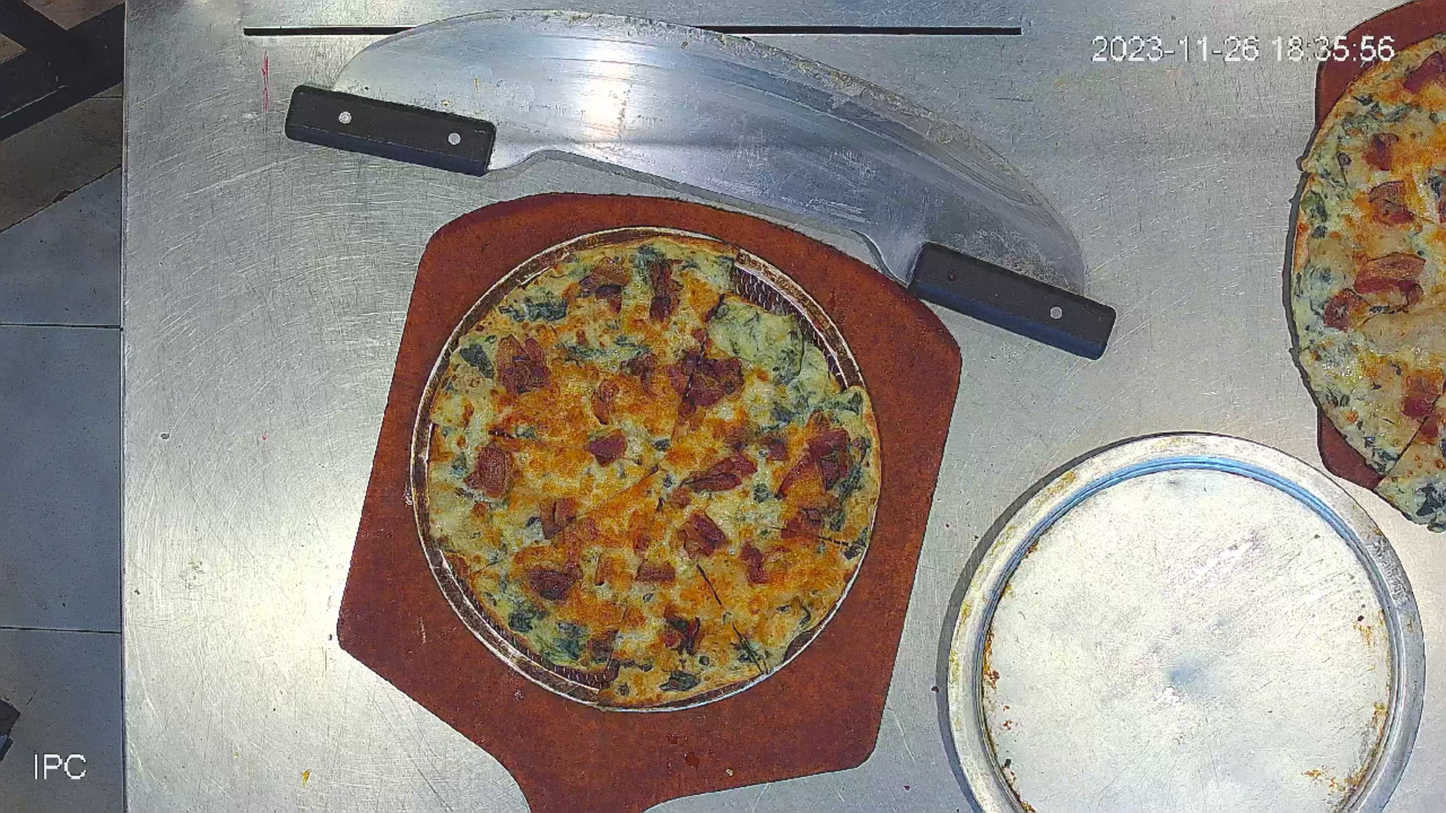pepporoni: (417, 231, 876, 714), (1289, 32, 1445, 533)
